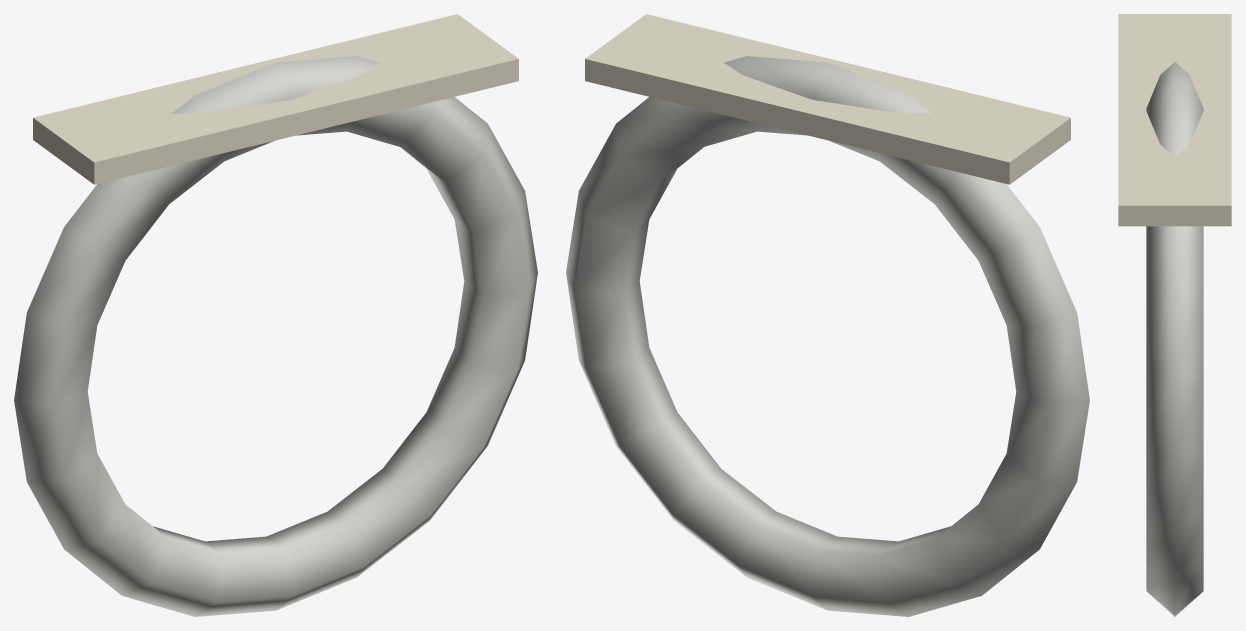
File: Patient_bracelet_leak.obj
The picture shows the model from 3 angles, left to right: view 1: azimuth 30°, elevation 25°; view 2: azimuth 150°, elevation 25°; view 3: azimuth 270°, elevation 25°; orthographic projection. The views are drawn at different scales.
Parts seen in each view (by area): view 1: Patient_bracelet_leak; view 2: Patient_bracelet_leak; view 3: Patient_bracelet_leak.
Part boxes in pixels (<box>): Patient_bracelet_leak: <box>14,14,537,616</box>; Patient_bracelet_leak: <box>566,14,1089,616</box>; Patient_bracelet_leak: <box>1118,14,1231,616</box>.
Bounding box in the file's own units: 0.074 × 0.074 × 0.015.
